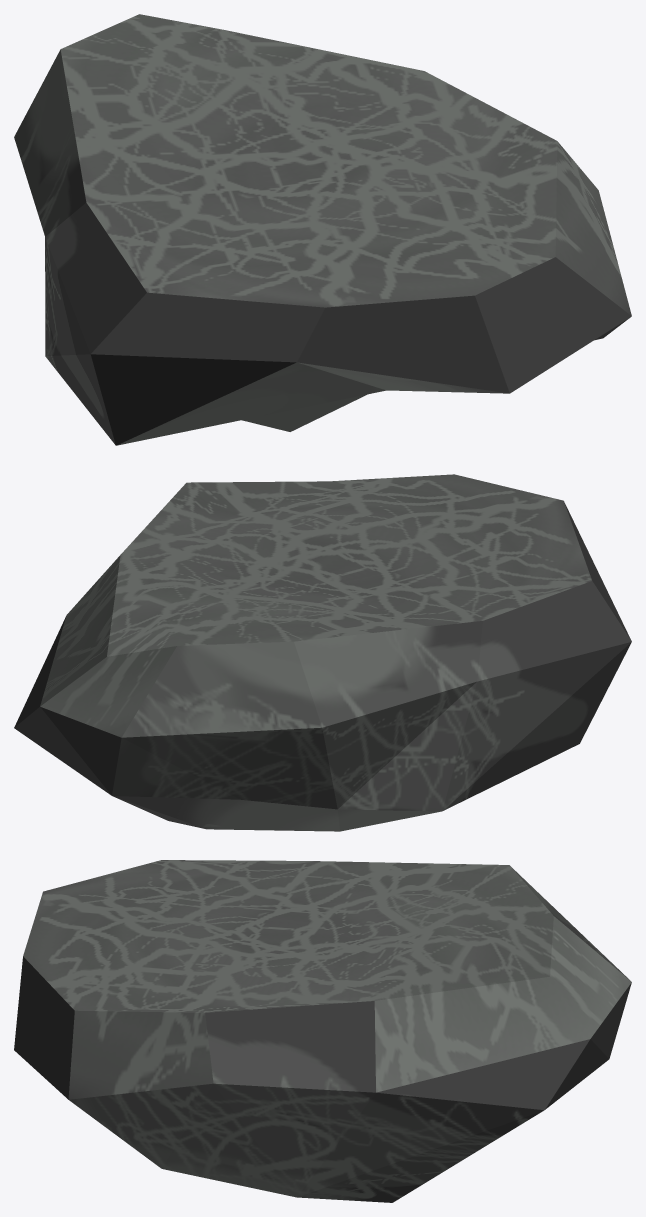
Rendered from kaya3.fbx.
The picture shows the model from 3 angles, top to bottom: view 1: azimuth 30°, elevation 25°; view 2: azimuth 150°, elevation 25°; view 3: azimuth 270°, elevation 25°; orthographic projection. The views are drawn at different scales.
Visible parts, largest first — view 1: Icosphere.003; view 2: Icosphere.003; view 3: Icosphere.003.
Part boxes in pixels (x1,y1,x2,y2): Icosphere.003: (14,14,631,445); Icosphere.003: (14,474,631,831); Icosphere.003: (14,860,631,1202).
Bounding box in the file's own units: 7.39 × 4.31 × 9.09.
1 material, 1 textured.
